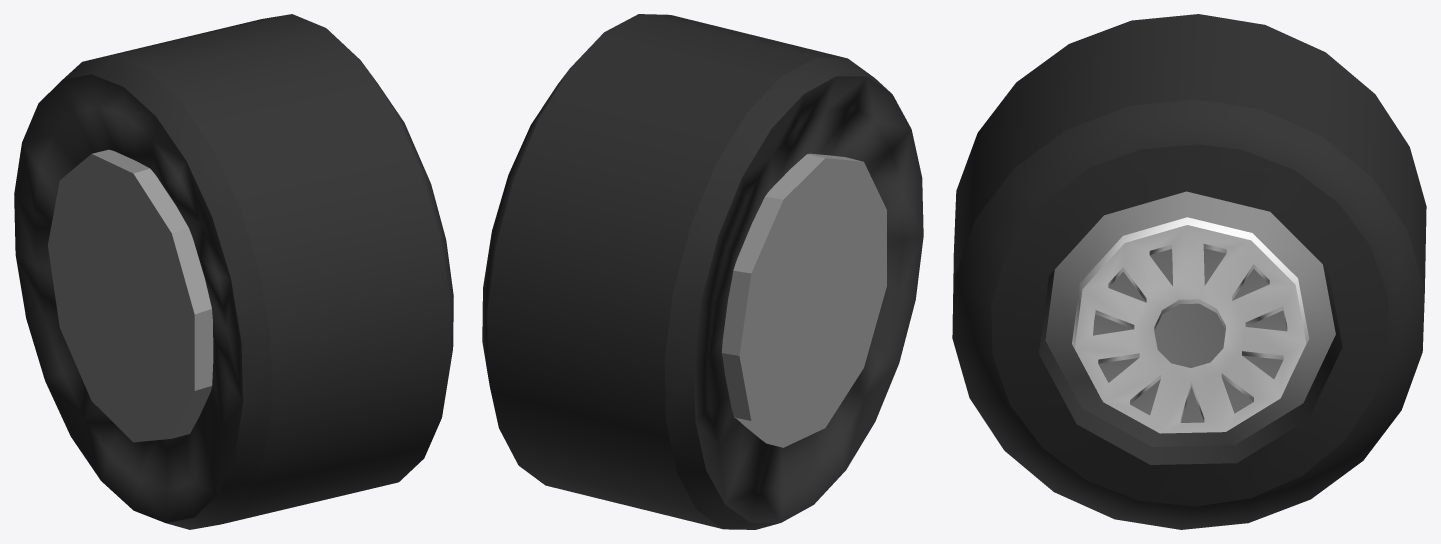
Rendered from BeetleCarWheel.fbx.
3 renders of one model, left to right at view 1: azimuth 30°, elevation 25°; view 2: azimuth 150°, elevation 25°; view 3: azimuth 270°, elevation 25°, orthographic. The views are drawn at different scales.
Parts seen in each view (by area): view 1: BeetleCarWheel; view 2: BeetleCarWheel; view 3: BeetleCarWheel.
Boxes of the visible parts, x1,y1,x2,y2 form: BeetleCarWheel: (14,14,453,529); BeetleCarWheel: (482,14,923,529); BeetleCarWheel: (952,14,1426,529).
Size of the model in its own units: 0.6555 by 1.1 by 1.1.
